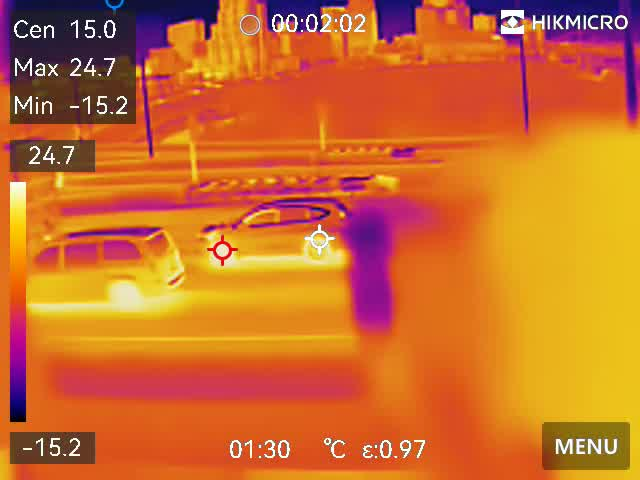largeCar: (23, 220, 189, 323), (193, 199, 363, 255)
